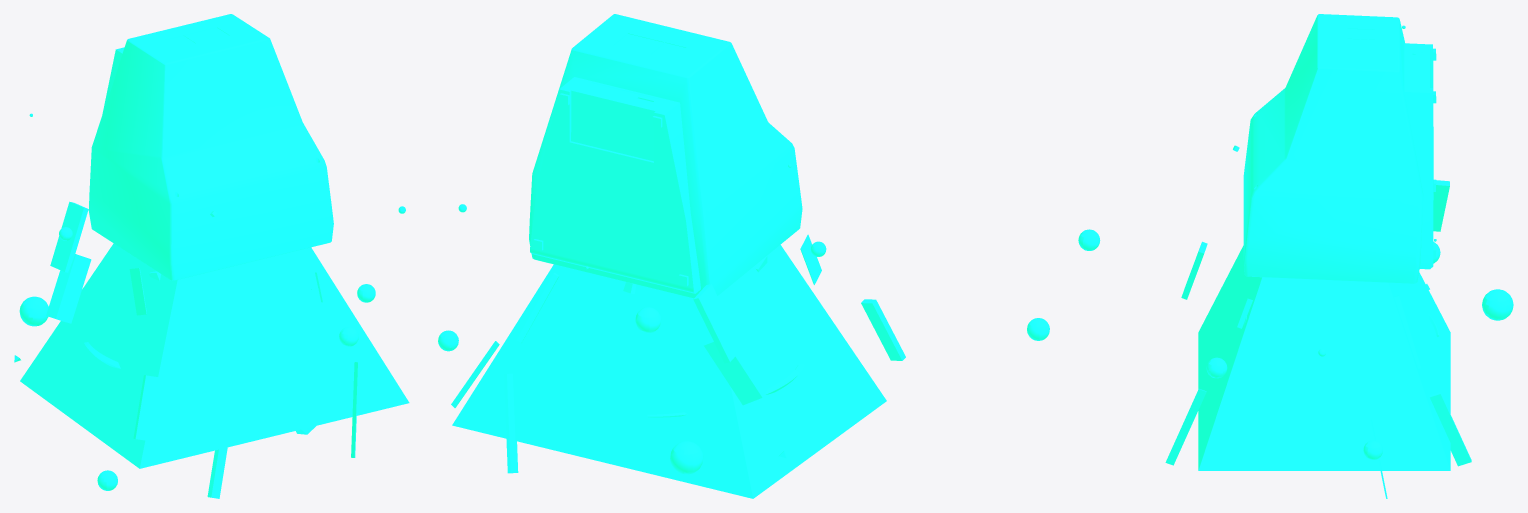
File: COMMUNICATIONMEDIA3JS.glb
The picture shows the model from 3 angles, left to right: view 1: azimuth 30°, elevation 25°; view 2: azimuth 150°, elevation 25°; view 3: azimuth 270°, elevation 25°; orthographic projection. The views are drawn at different scales.
Parts seen in each view (by area): view 1: flotsam-and-jetsam-Mat.4; view 2: flotsam-and-jetsam-Mat.4; view 3: flotsam-and-jetsam-Mat.4.
Part boxes in pixels (x1,y1,x2,y2): flotsam-and-jetsam-Mat.4: (14, 14, 409, 498); flotsam-and-jetsam-Mat.4: (438, 14, 1049, 498); flotsam-and-jetsam-Mat.4: (1078, 14, 1513, 498).
Bounding box in the file's own units: 12.02 × 11.12 × 10.32.
